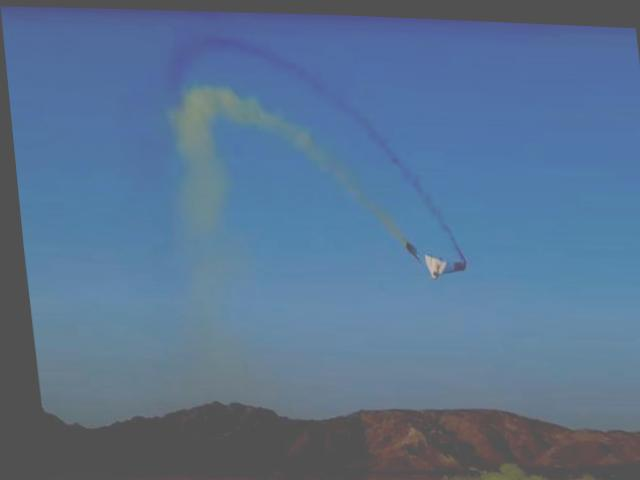iha: (394, 238, 466, 279)
